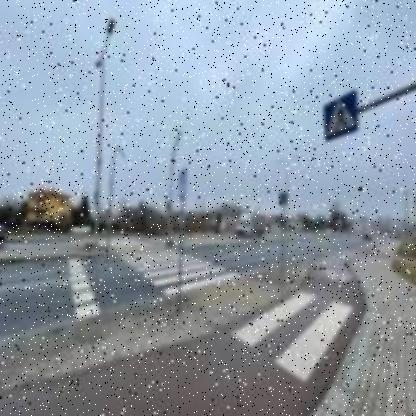Pedestrian Crossing: (324, 89, 360, 145)
